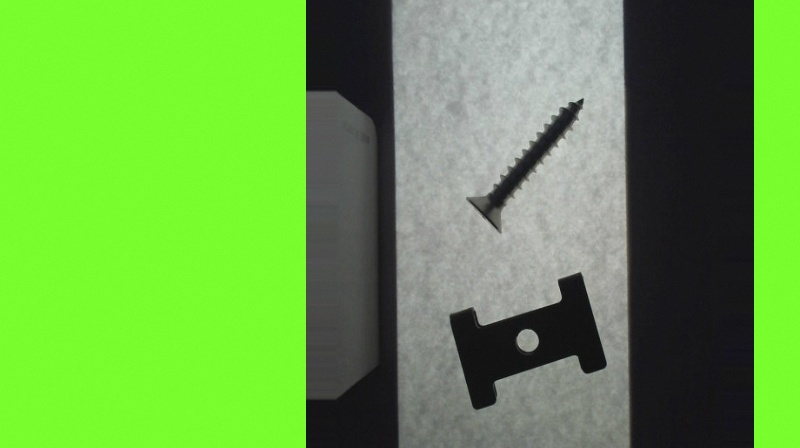O002: (447, 273, 606, 412)
S001: (466, 97, 587, 234)
